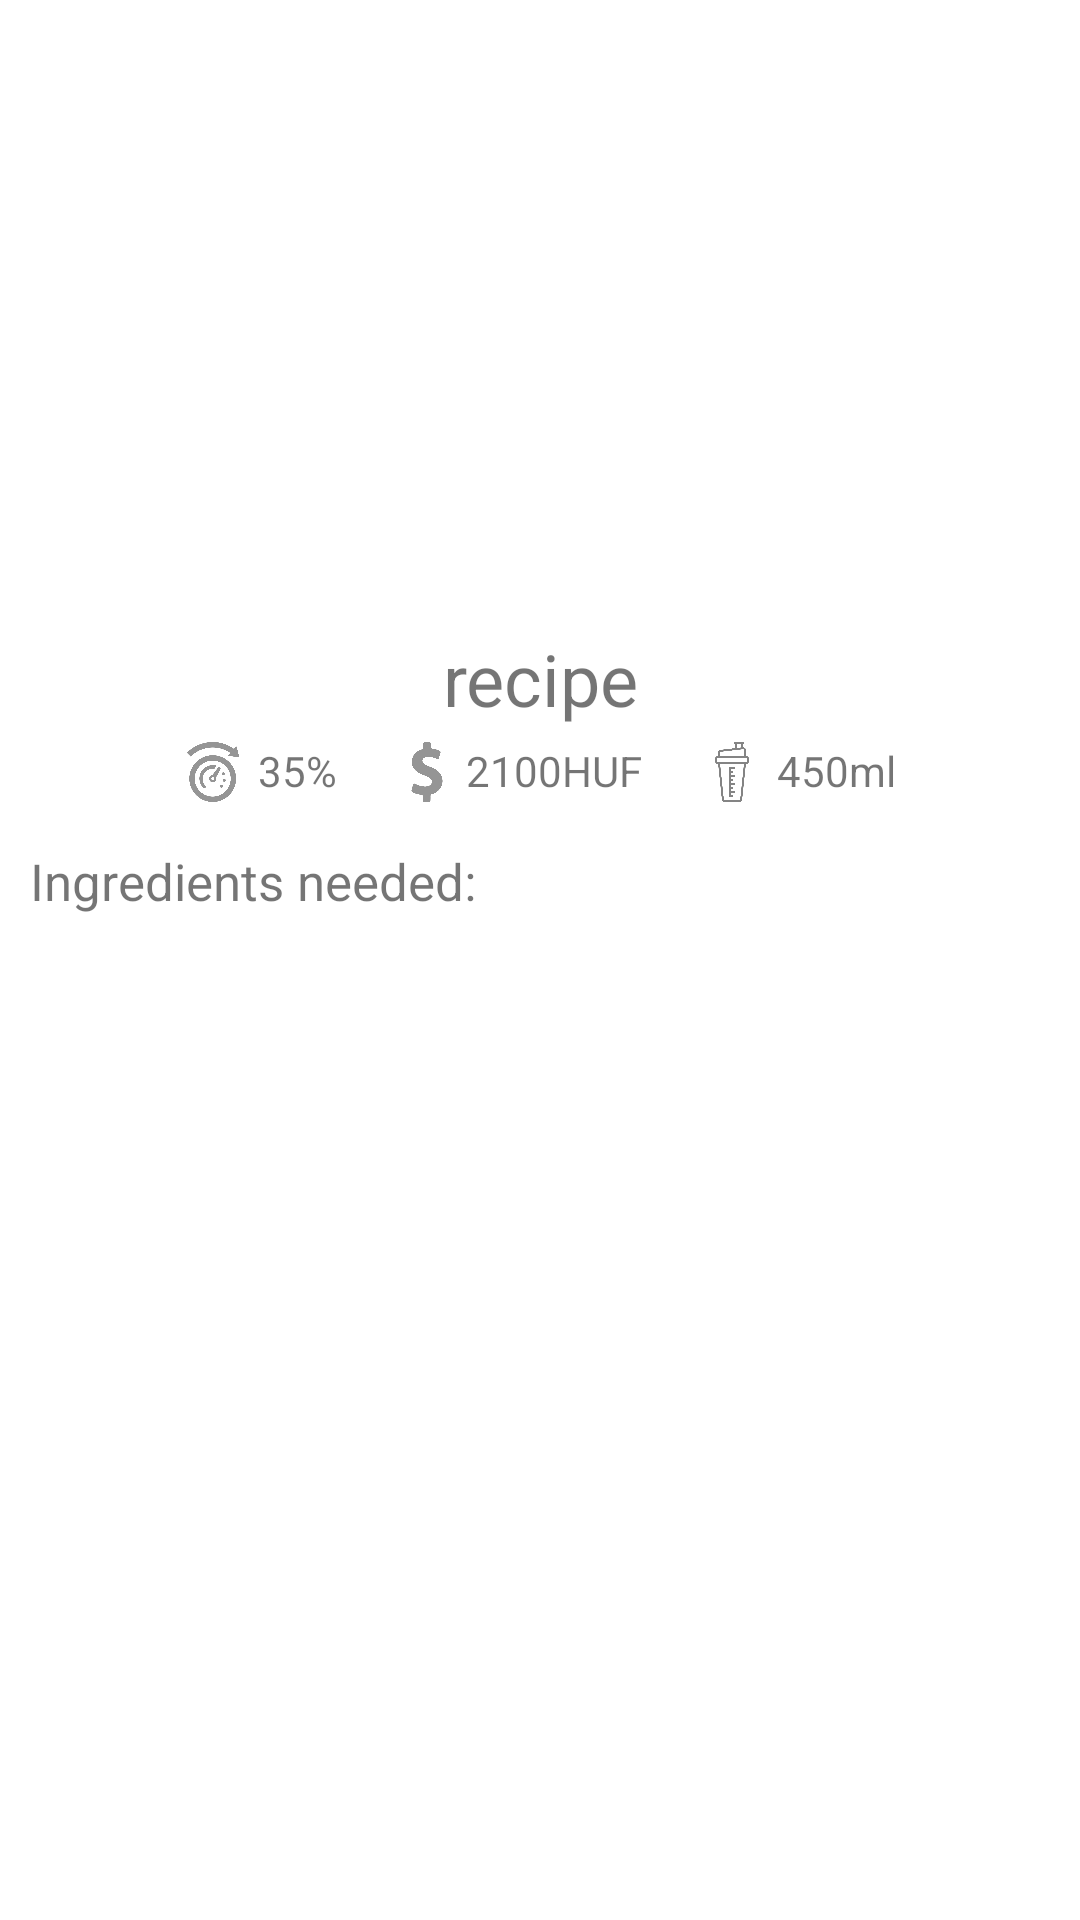

Where icons sit on this 1080×1920 app screen, as bbox=[x1, y1, x2, y2]:
dollar sign: bbox=[411, 742, 443, 802]
measure liquid: bbox=[715, 742, 749, 802]
